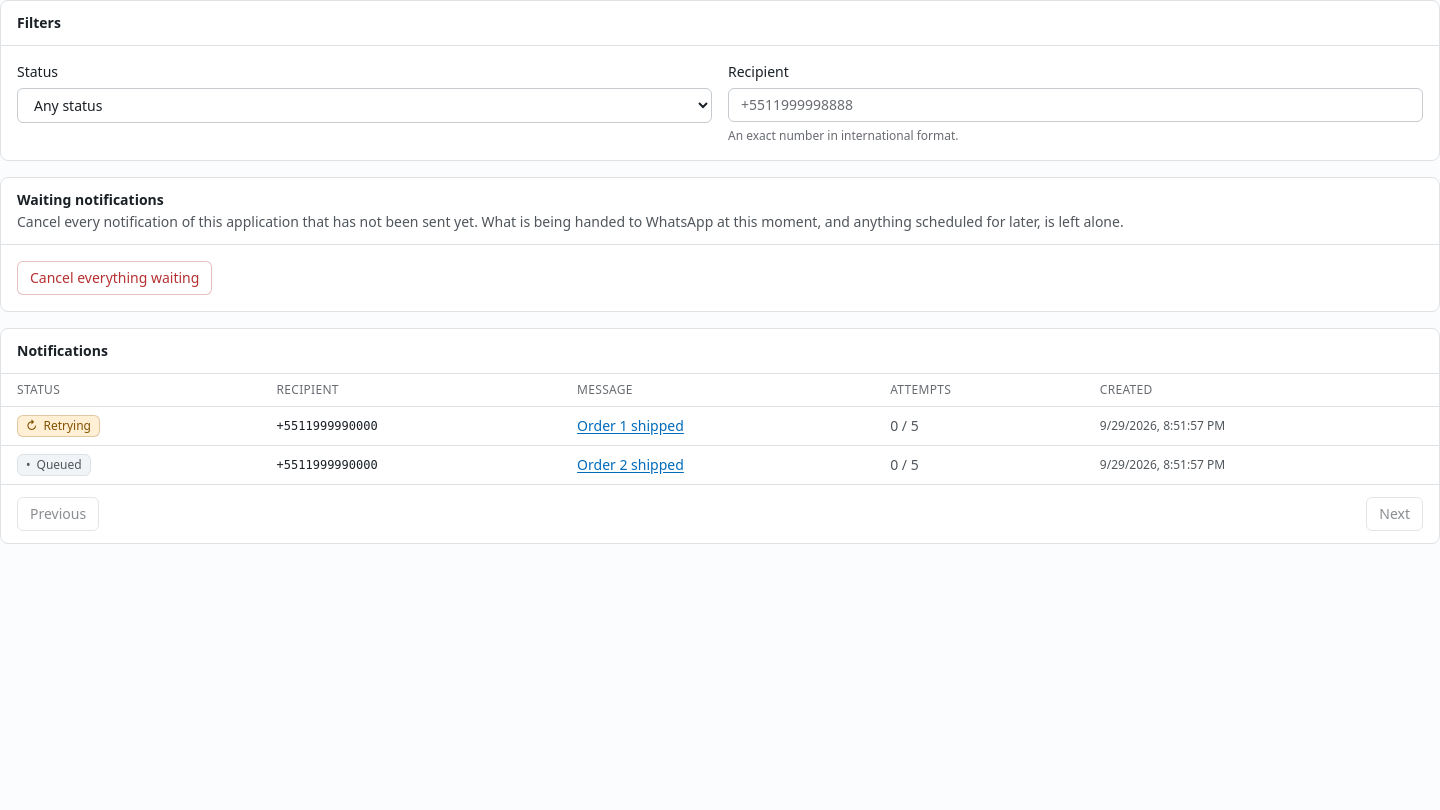
Test case: notifications waiting behind a connection that cannot send › asks once, cancels across the whole application, and says how many
Step 1. Click the button "Cancel everything waiting" → coordinates (115, 278), box 17,261 -> 212,295
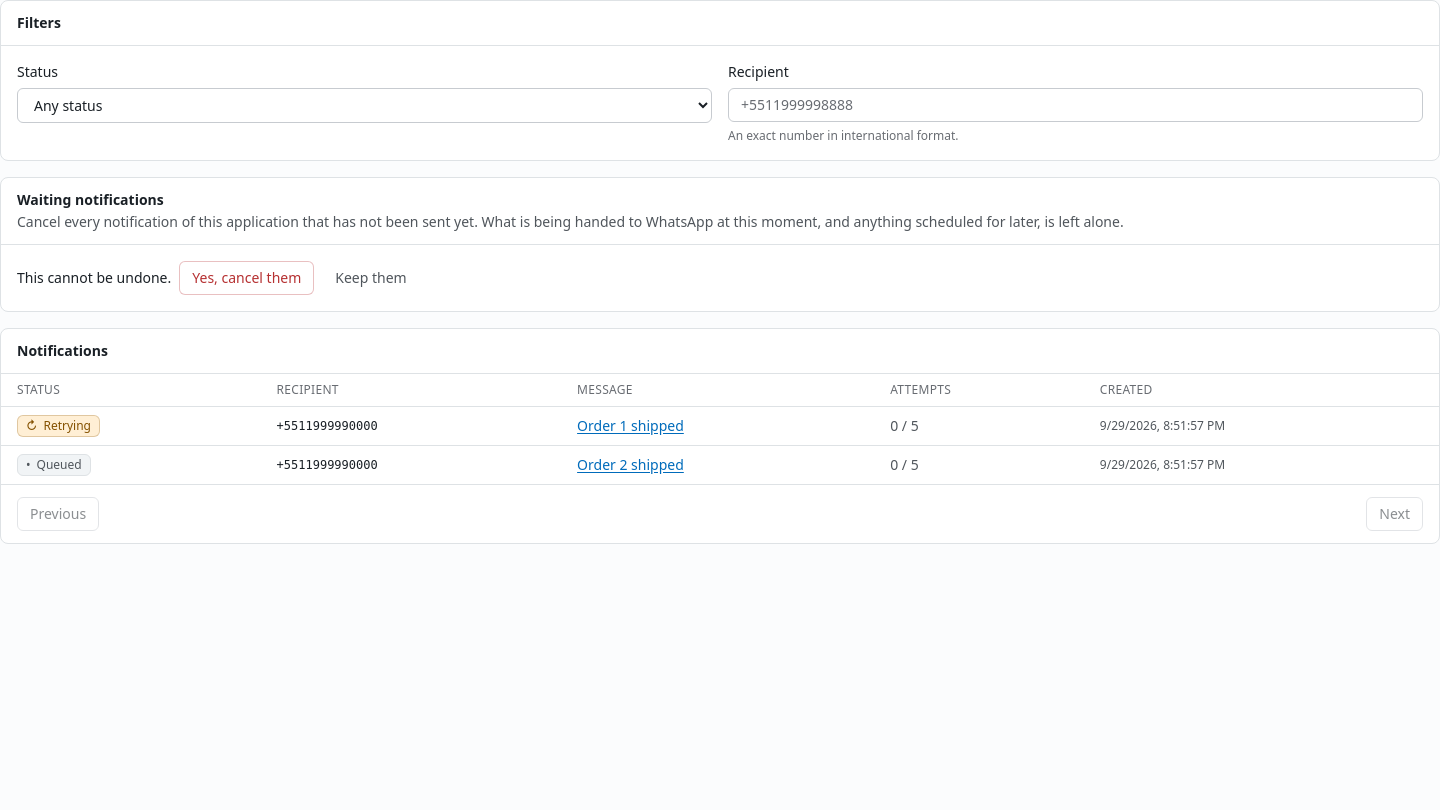
Step 2. Click the button "Yes, cancel them" → coordinates (247, 278), box 179,261 -> 314,295
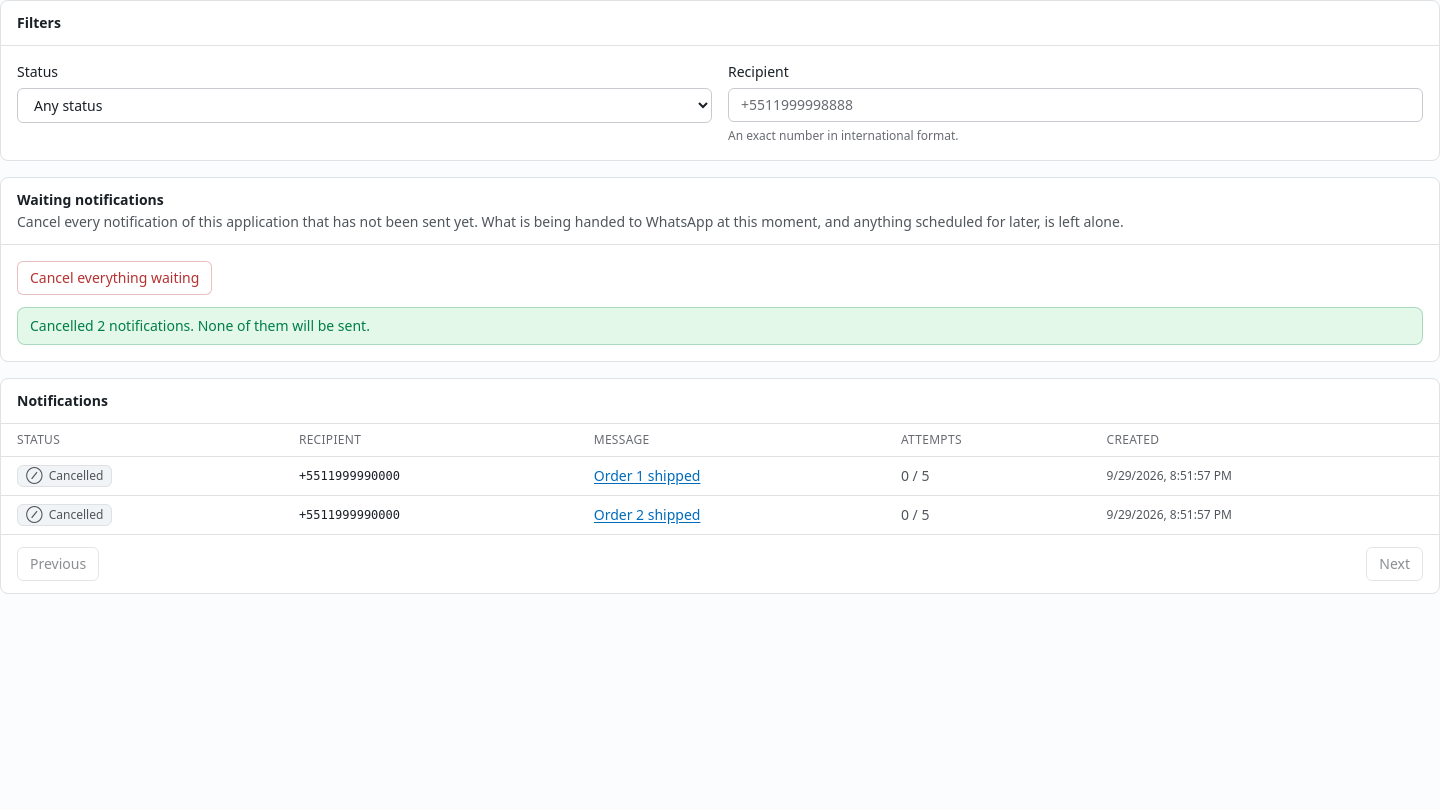
Result: the text "Cancelled 2 notifications. None of them will be sent." is shown at 30,316 -> 370,335
